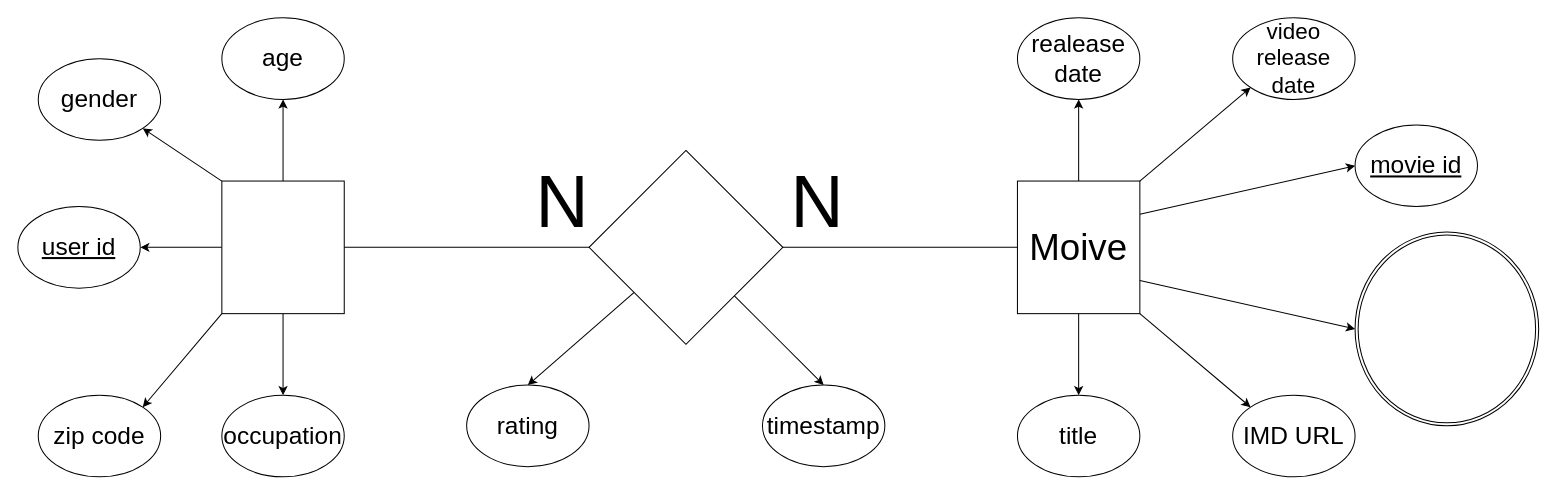
Some shapes in this 1557 by 495 pixel diagram are drawn without their labels. Here are the shapes that lost their labels. From the top down, the box of each, then its label:
(221, 180, 344, 314): User
(588, 149, 783, 344): DATA
(1354, 231, 1539, 426): genre
